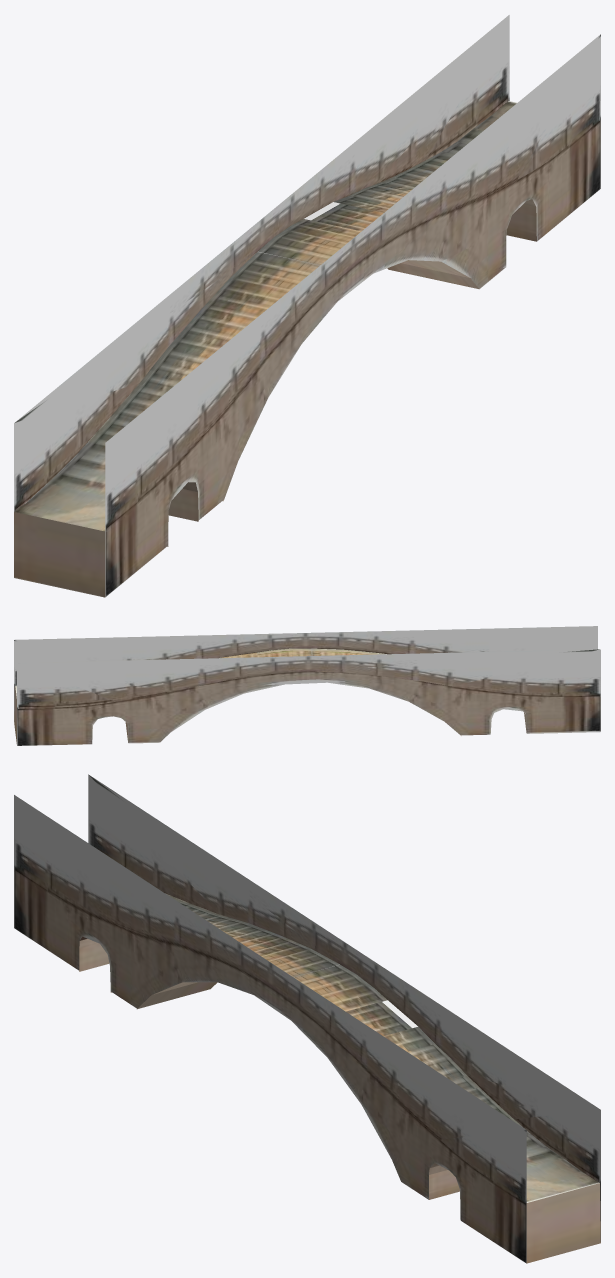
Rendered from bridge.gltf.
The picture shows the model from 3 angles, top to bottom: view 1: azimuth 30°, elevation 25°; view 2: azimuth 150°, elevation 25°; view 3: azimuth 270°, elevation 25°; orthographic projection. The views are drawn at different scales.
Parts seen in each view (by area): view 1: root; view 2: root; view 3: root.
Part boxes in pixels (box(x1,y1,x2,y2)): root: box(14, 15, 600, 597); root: box(14, 626, 600, 745); root: box(14, 774, 600, 1263).
Size of the model in its own units: 0.0284 by 0.00506 by 0.0199.
1 material, 1 textured.
